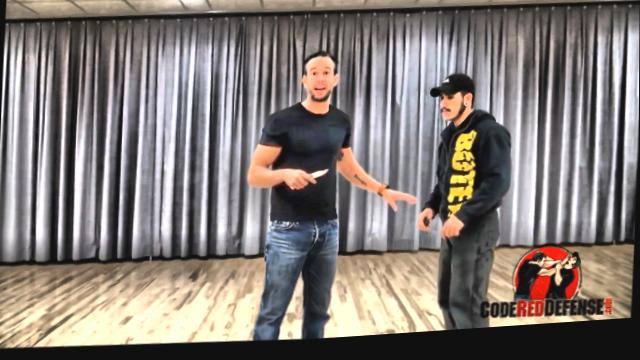knife: (288, 170, 330, 195)
